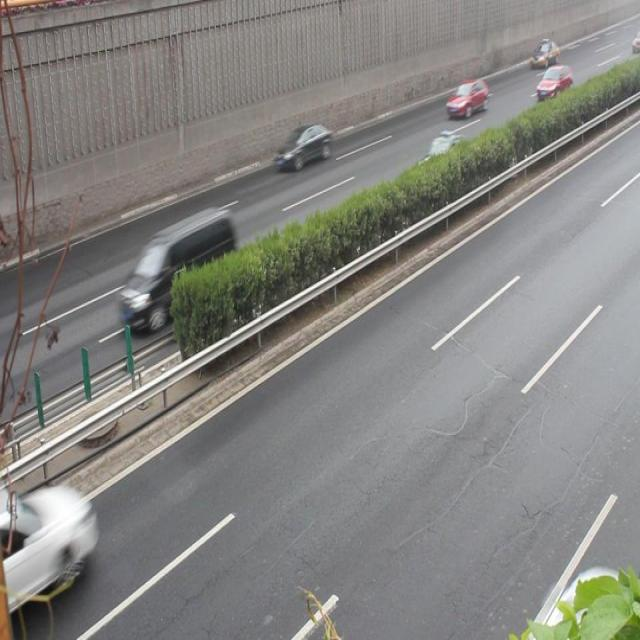car: (411, 134, 470, 192), (275, 122, 330, 173), (443, 78, 487, 120), (535, 64, 571, 102)
truck: (118, 208, 234, 327)
